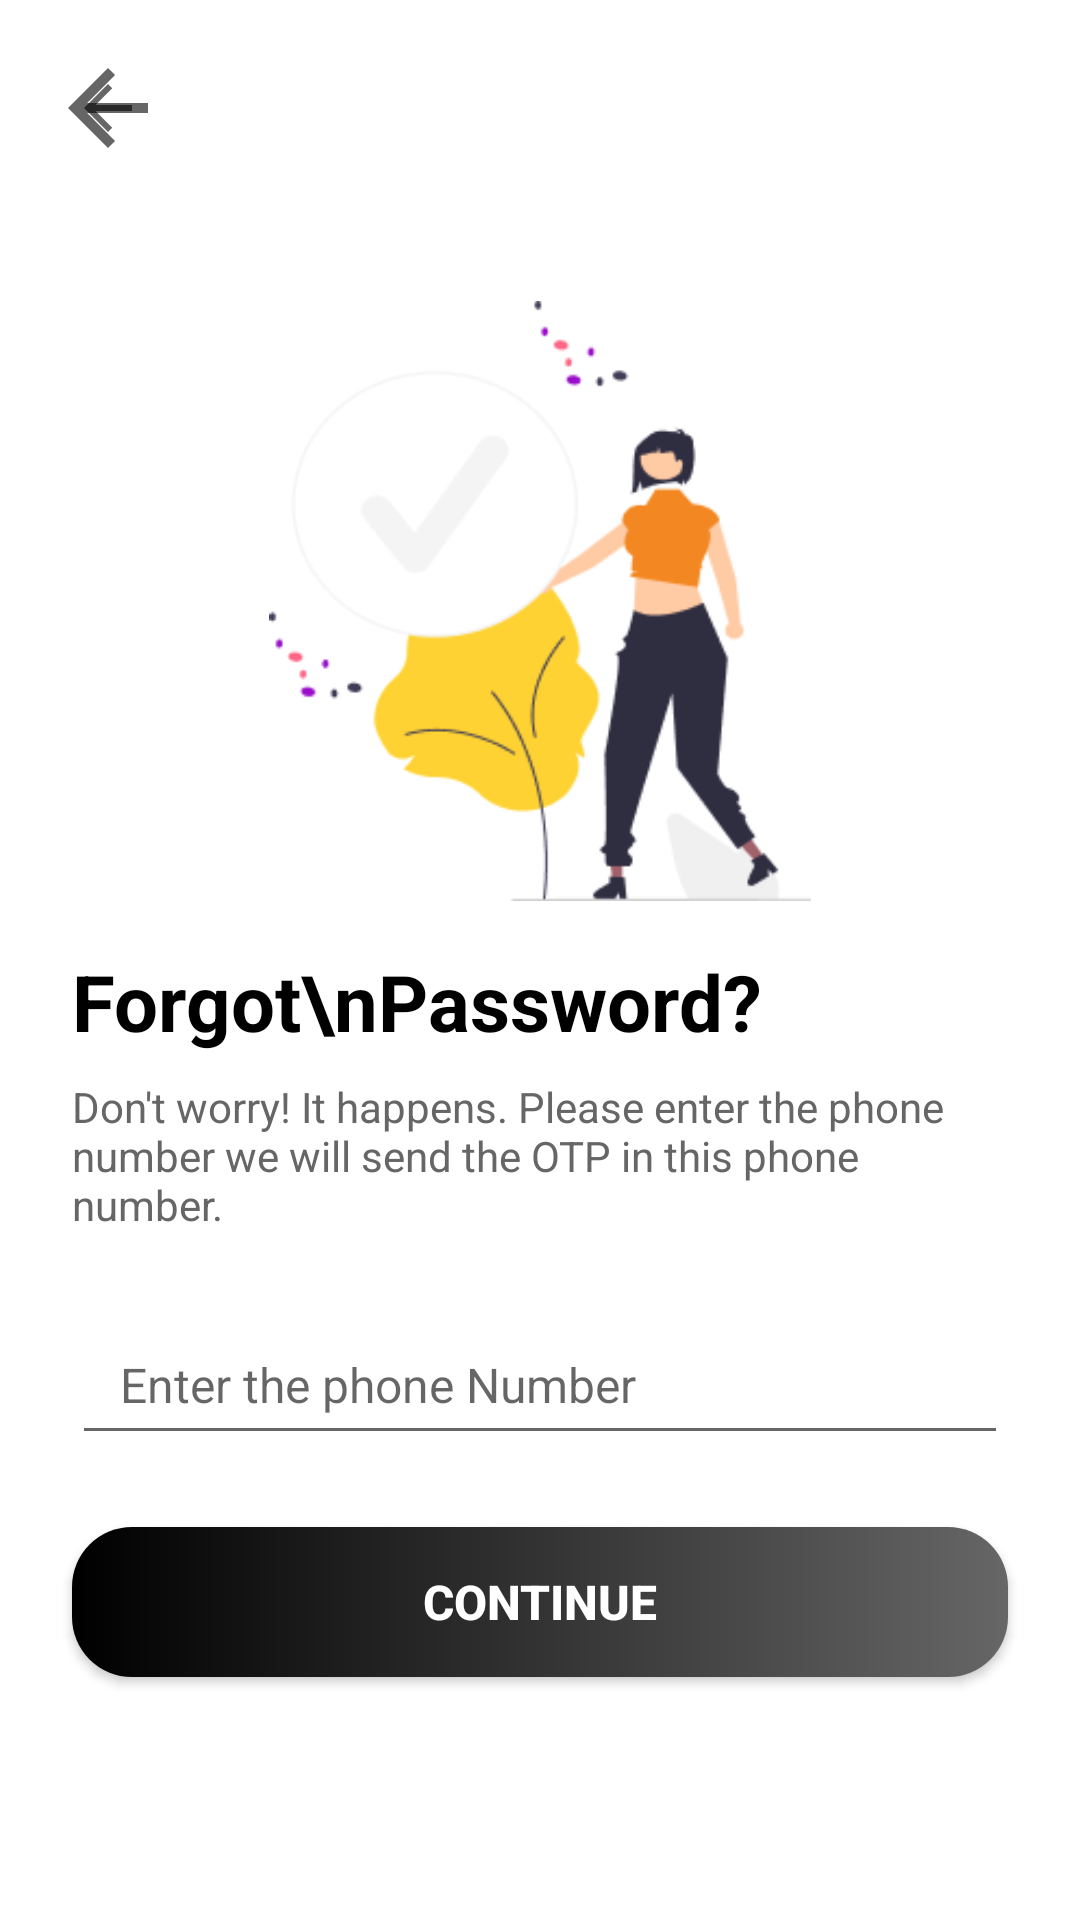

Where to tap for icons on this 1080*1920 app screen, as (x=x, y=y):
Back: (x=108, y=108)
